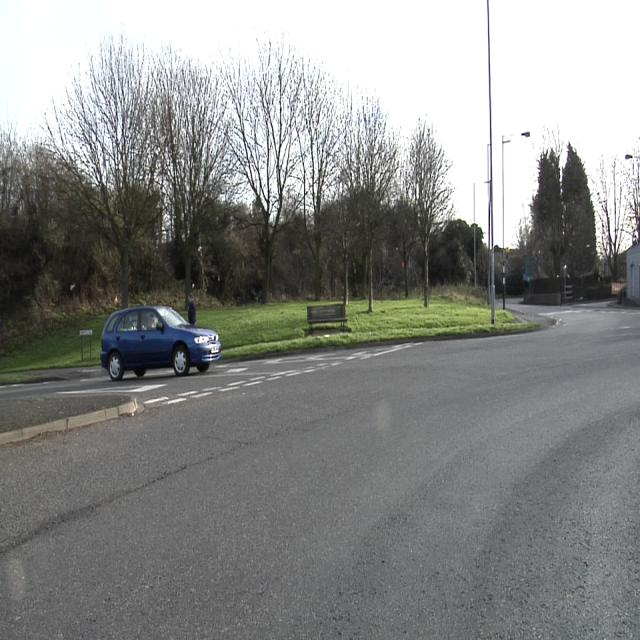Car: (102, 307, 220, 378)
Road: (0, 325, 635, 622)
Tree: (26, 30, 470, 305), (0, 125, 85, 314), (526, 144, 597, 277), (591, 152, 639, 273)
